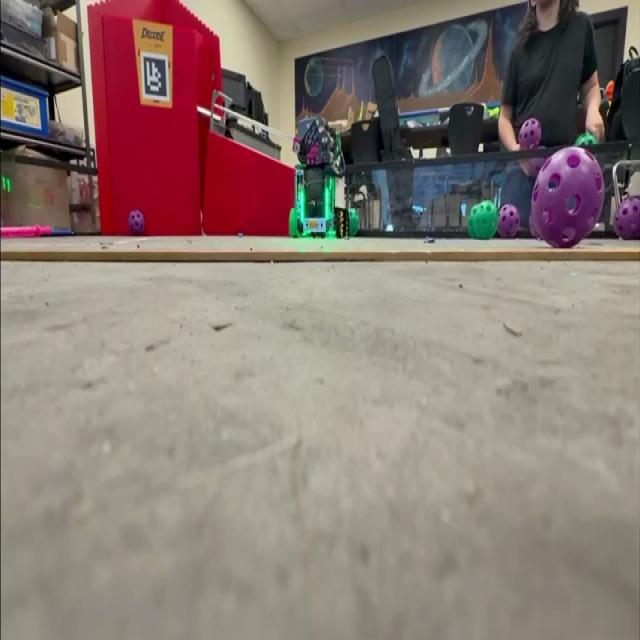artifact_green: (474, 200, 498, 239), (485, 202, 499, 238), (467, 204, 478, 238), (576, 132, 597, 146), (349, 208, 359, 237), (479, 200, 498, 215), (289, 208, 298, 237), (467, 214, 475, 238), (488, 107, 499, 119), (471, 203, 479, 214)
artifact_purple: (531, 147, 604, 247), (614, 196, 639, 239), (498, 204, 520, 238), (519, 119, 541, 150), (129, 210, 145, 235), (528, 158, 546, 178), (529, 215, 541, 239)
